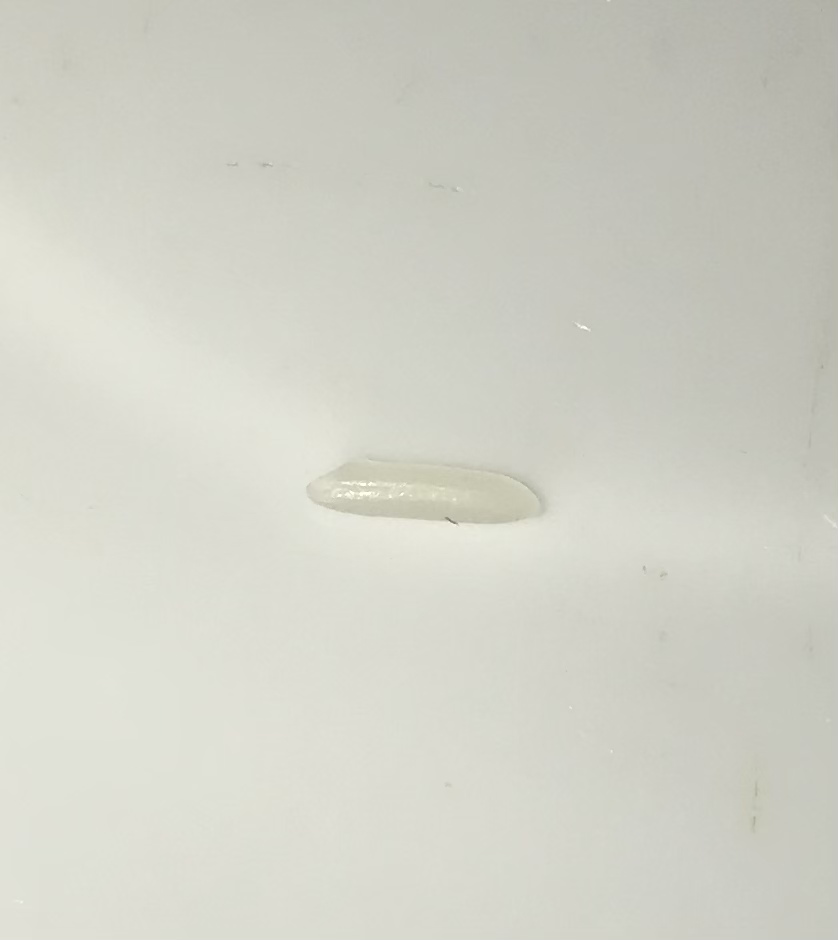Gao Ngoc Troi: (299, 435, 549, 555)
